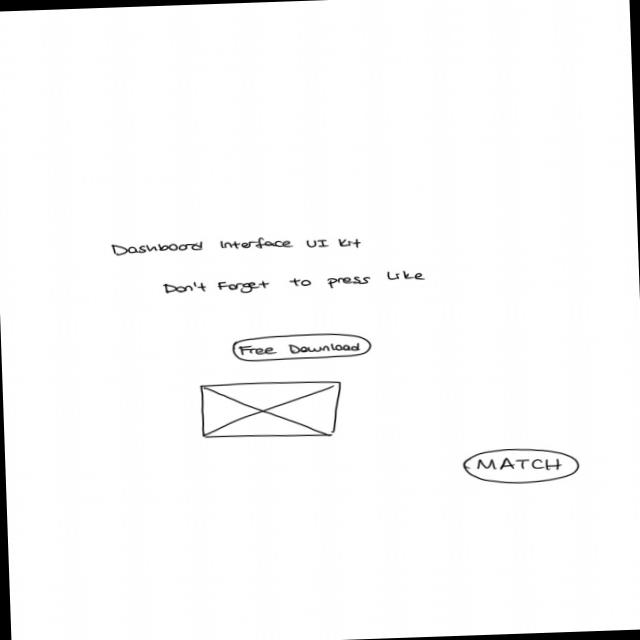button: (460, 444, 580, 486), (230, 330, 372, 362)
image: (198, 378, 342, 442)
label: (161, 266, 427, 296), (108, 232, 363, 257)
